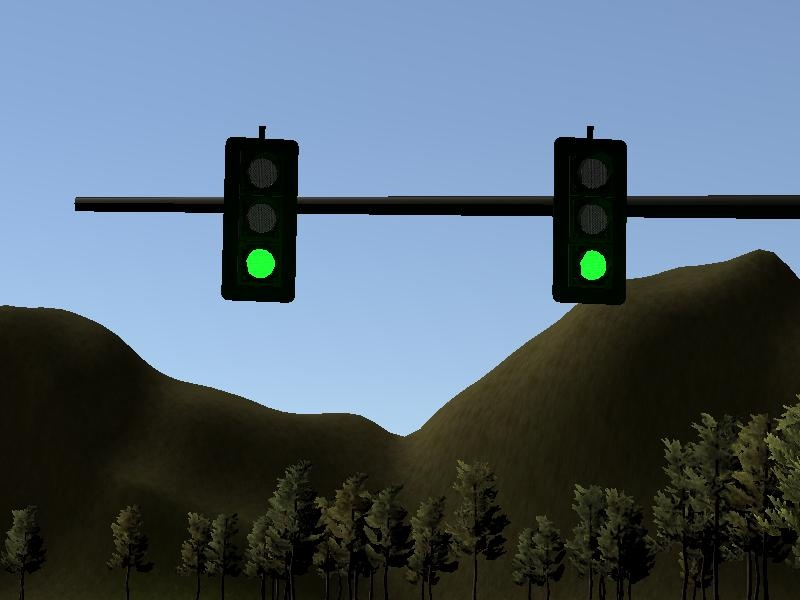green: (222, 138, 298, 303), (553, 139, 628, 306)
